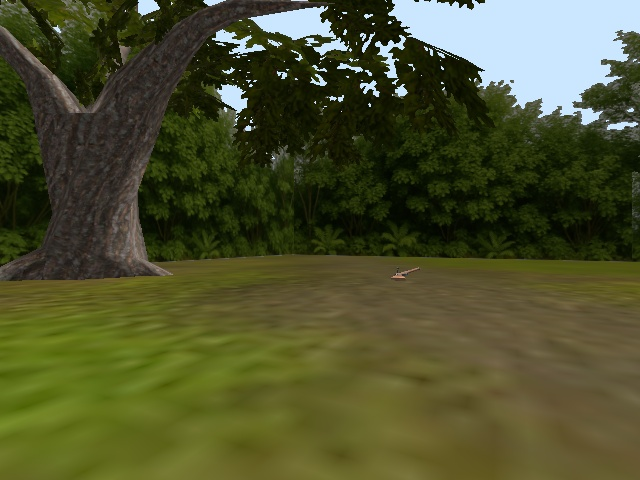rifle: (390, 263, 422, 282)
